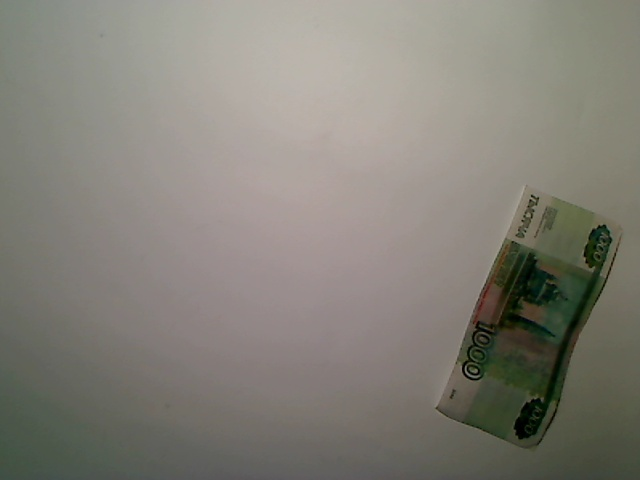banknotes: (431, 181, 630, 458)
